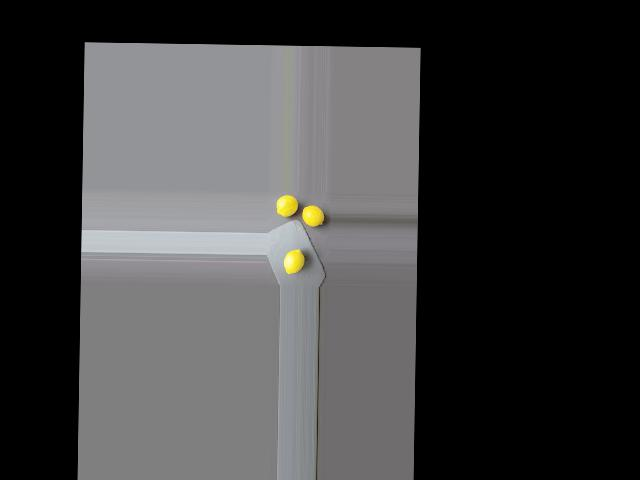lemon: (275, 193, 299, 218)
